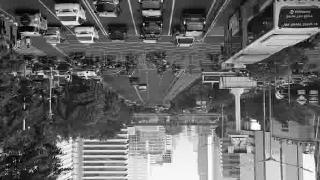mobil: (16, 8, 49, 36), (182, 8, 208, 38), (54, 1, 84, 25), (74, 24, 100, 46), (104, 22, 130, 43), (141, 17, 165, 36), (140, 0, 166, 17)
